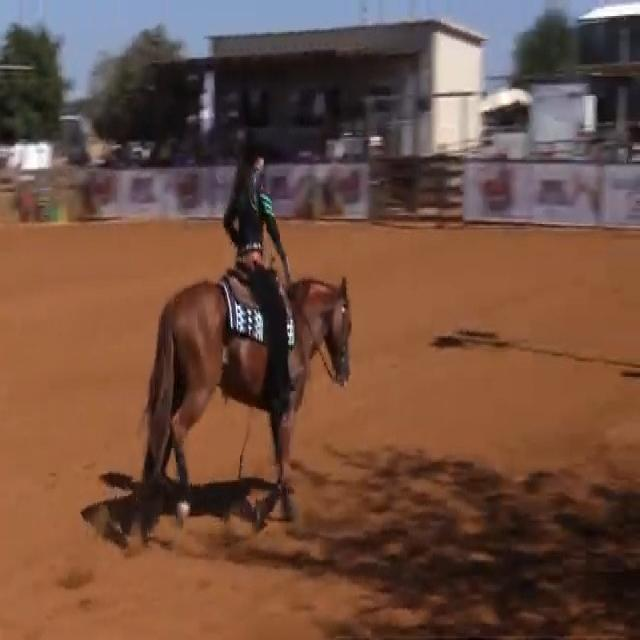horse: (138, 265, 353, 524)
